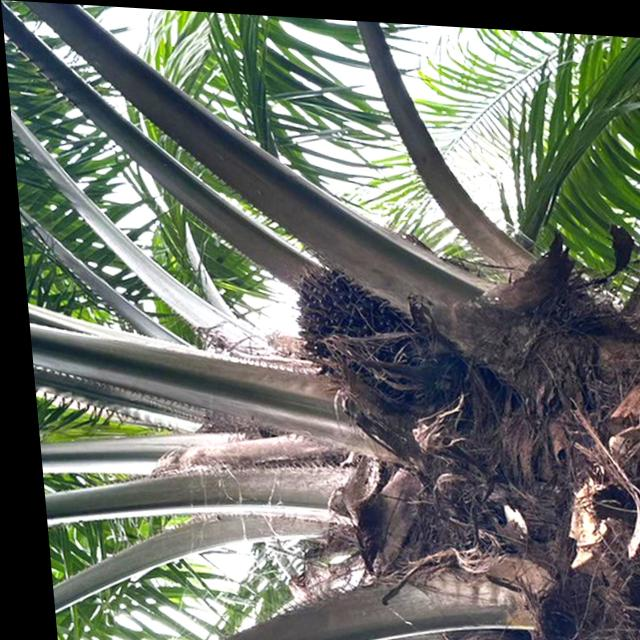unripe: (269, 242, 464, 411)
